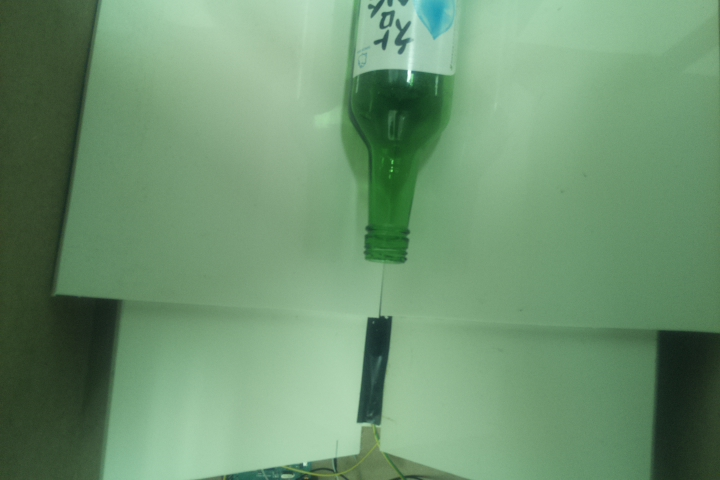soju: (339, 1, 463, 263)
